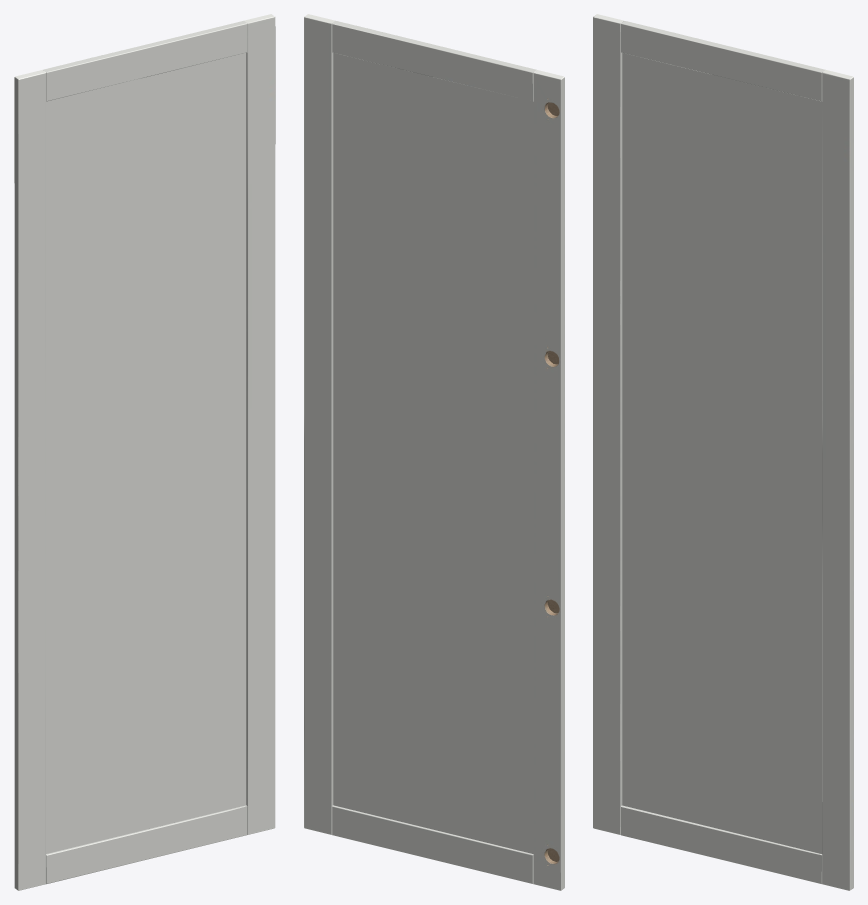
File: sannidal_drzwi_00395558.glb
3 renders of one model, left to right at view 1: azimuth 30°, elevation 25°; view 2: azimuth 150°, elevation 25°; view 3: azimuth 330°, elevation 25°, orthographic.
Parts seen in each view (by area): view 1: sannidal_drzwi_00395558; view 2: sannidal_drzwi_00395558; view 3: sannidal_drzwi_00395558.
Boxes of the visible parts, <box> form: sannidal_drzwi_00395558: <box>14,14,275,890</box>; sannidal_drzwi_00395558: <box>304,14,564,890</box>; sannidal_drzwi_00395558: <box>593,14,853,890</box>.
Bounding box in the file's own units: 0.596 × 1.8 × 0.0163.
1 material, 1 textured.
